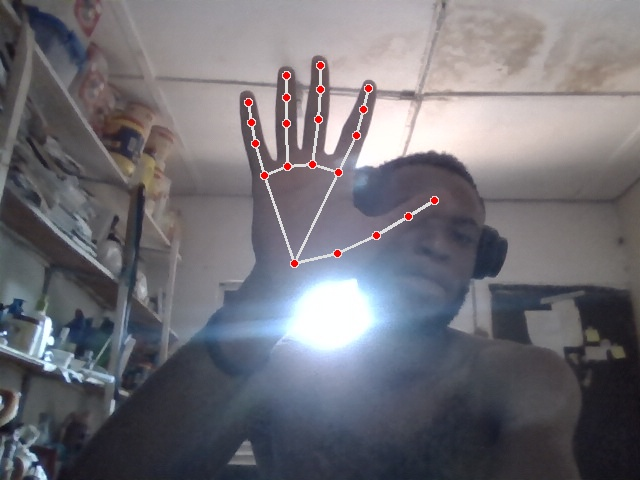no: (239, 55, 448, 285)
